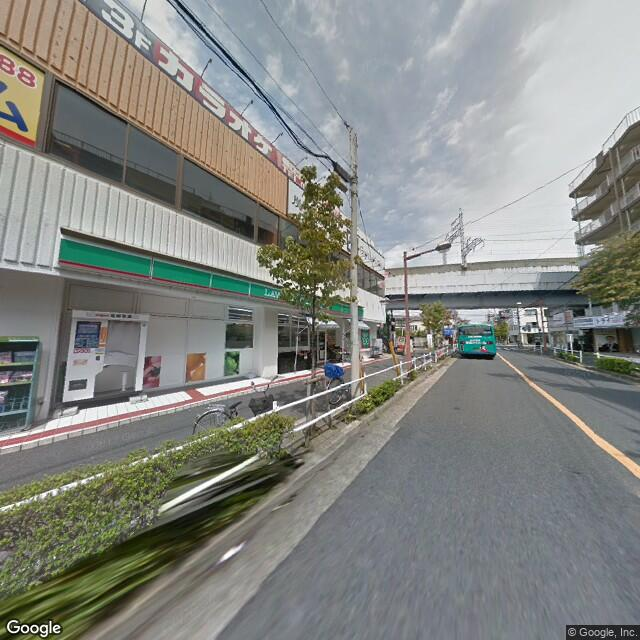lawson: (56, 239, 356, 319)
